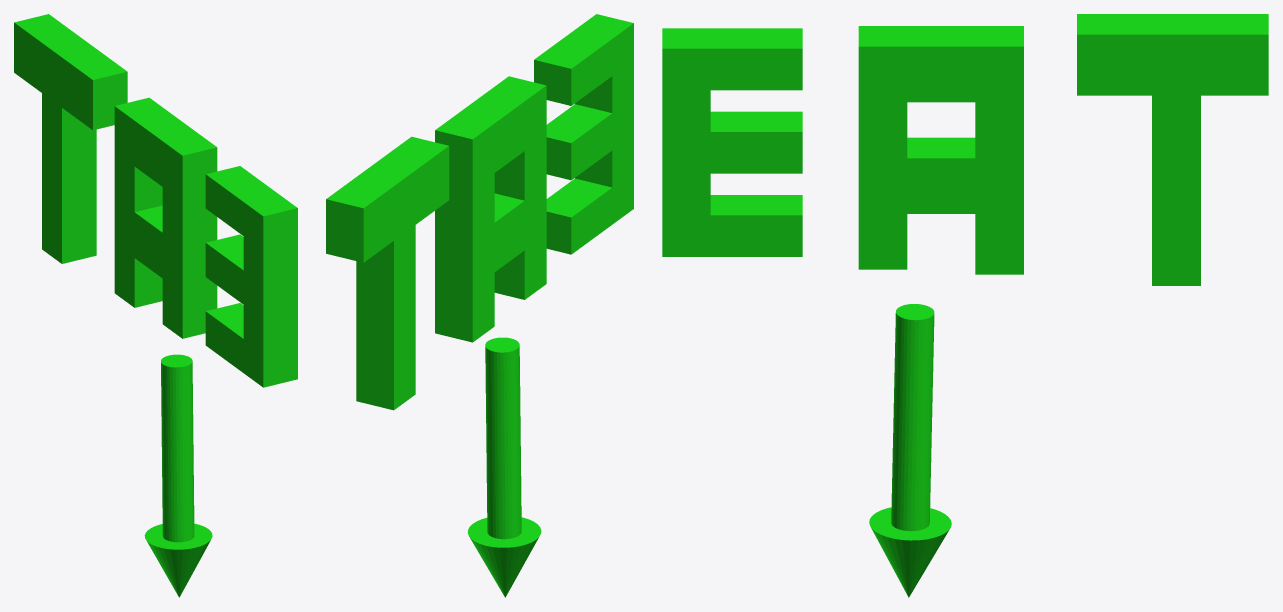
Rendered from Eat.fbx.
3 views of the same model, side by side, from view 1: azimuth 30°, elevation 25°; view 2: azimuth 150°, elevation 25°; view 3: azimuth 270°, elevation 25° (orthographic). The views are drawn at different scales.
Parts seen in each view (by area): view 1: Cube.004; view 2: Cube.004; view 3: Cube.004.
Boxes of the visible parts, box(x1,y1,x2,y2) form: Cube.004: box(14, 14, 297, 597); Cube.004: box(326, 14, 633, 597); Cube.004: box(662, 14, 1268, 597).
Bounding box in the file's own units: 200 × 1531 × 1466.
